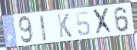5: (75, 10, 92, 37)
6: (113, 6, 130, 34)
9: (18, 14, 35, 45)
I: (38, 14, 48, 43)
K: (56, 13, 74, 39)
X: (91, 8, 114, 37)
